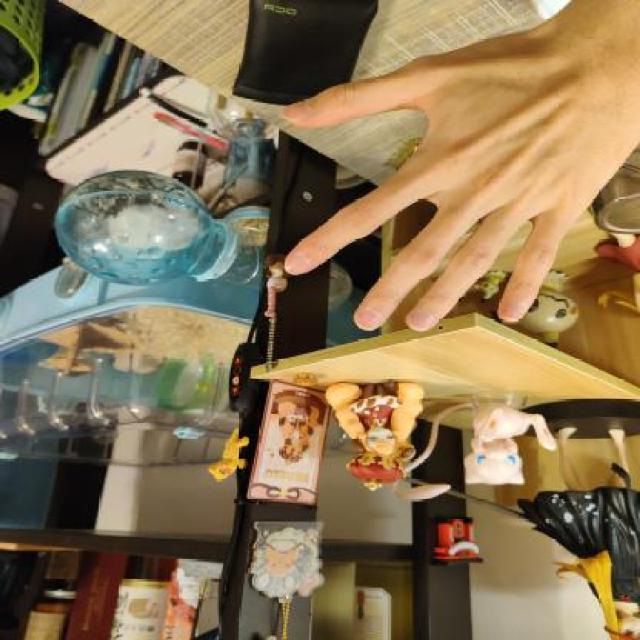bare_hand: (255, 1, 640, 348)
